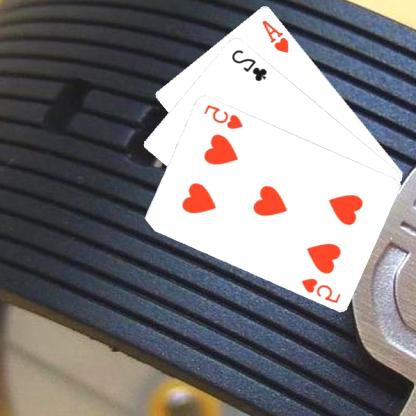2C: (230, 46, 270, 83)
5H: (203, 101, 247, 131), (300, 274, 344, 304)
AH: (261, 17, 293, 54)
